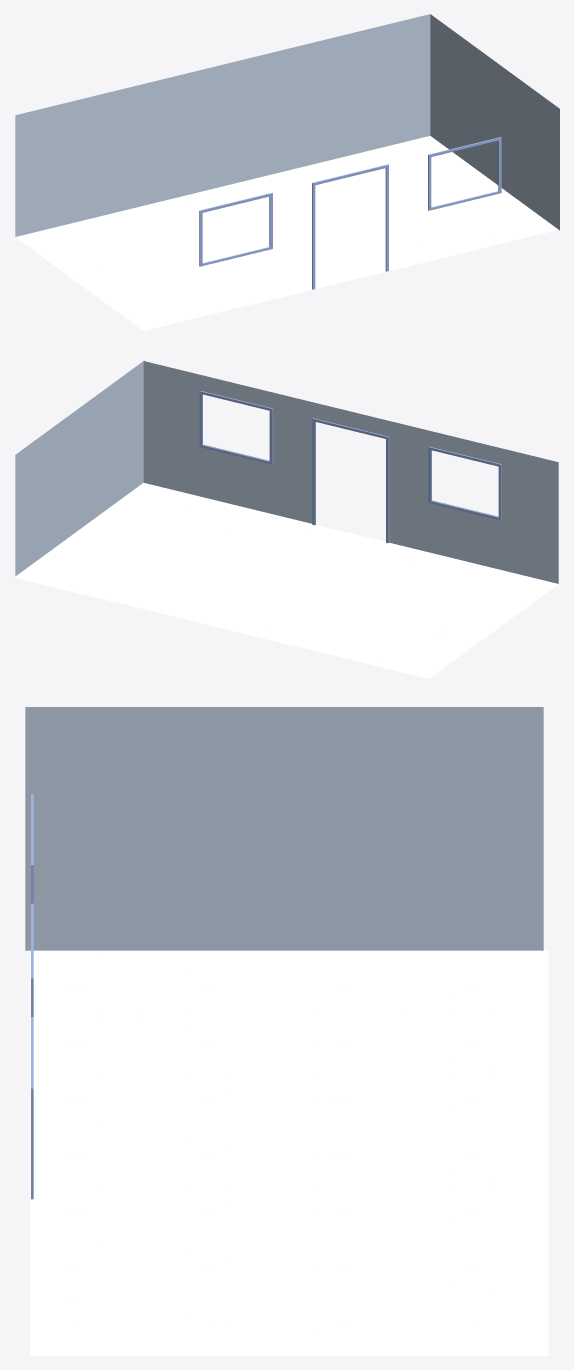
The model's file is room_emissivefactorup1.gltf.
The picture shows the model from 3 angles, top to bottom: view 1: azimuth 30°, elevation 25°; view 2: azimuth 150°, elevation 25°; view 3: azimuth 270°, elevation 25°; orthographic projection. The views are drawn at different scales.
Visible parts, largest first — view 1: Cube.007_Cube.106, Cube.002_Cube.041, Cube.005_Cube.104, windowtrim.002_Cube.101, windowtrim.001_Cube.000, windowtrim.001_Cube.099; view 2: Cube.002_Cube.041, Cube.004_Cube.103, Cube.005_Cube.104, windowtrim.002_Cube.101, windowtrim.001_Cube.099, windowtrim.001_Cube.000; view 3: Cube.002_Cube.041, Cube.006_Cube.105.
Boxes of the visible parts, box(x1,y1,x2,y2) form: Cube.007_Cube.106: box(15, 14, 430, 236); Cube.002_Cube.041: box(14, 136, 558, 330); Cube.005_Cube.104: box(430, 14, 559, 230); windowtrim.002_Cube.101: box(312, 164, 388, 289); windowtrim.001_Cube.000: box(199, 193, 272, 266); windowtrim.001_Cube.099: box(428, 137, 501, 210); Cube.002_Cube.041: box(14, 482, 558, 678); Cube.004_Cube.103: box(143, 361, 558, 583); Cube.005_Cube.104: box(15, 360, 144, 576); windowtrim.002_Cube.101: box(312, 418, 389, 543); windowtrim.001_Cube.099: box(199, 391, 273, 464); windowtrim.001_Cube.000: box(428, 446, 501, 520); Cube.002_Cube.041: box(30, 950, 548, 1355); Cube.006_Cube.105: box(25, 707, 543, 950).
Size of the model in its own units: 33 by 9.26 by 18.01.
4 materials, 2 textured.
